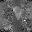people: (13, 6, 23, 21)
